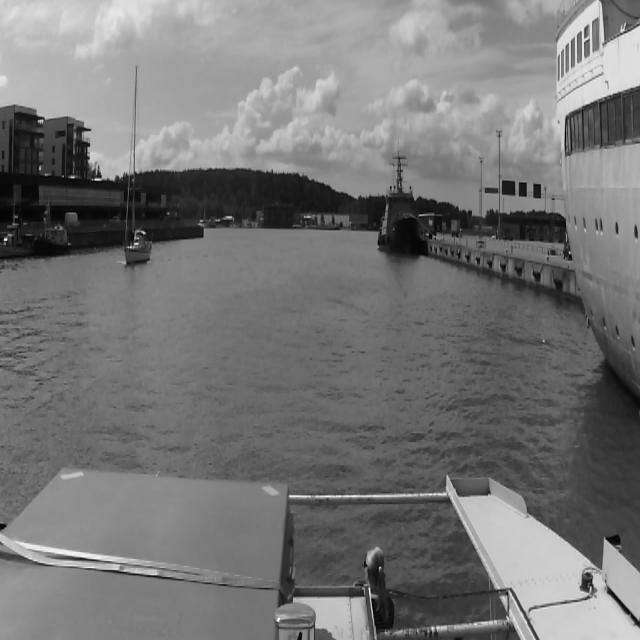ship: (555, 0, 640, 402), (122, 66, 152, 266), (376, 140, 422, 258)
